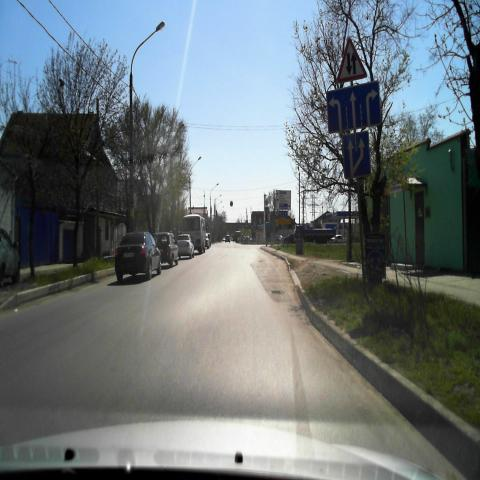1_21: (334, 34, 368, 81)
